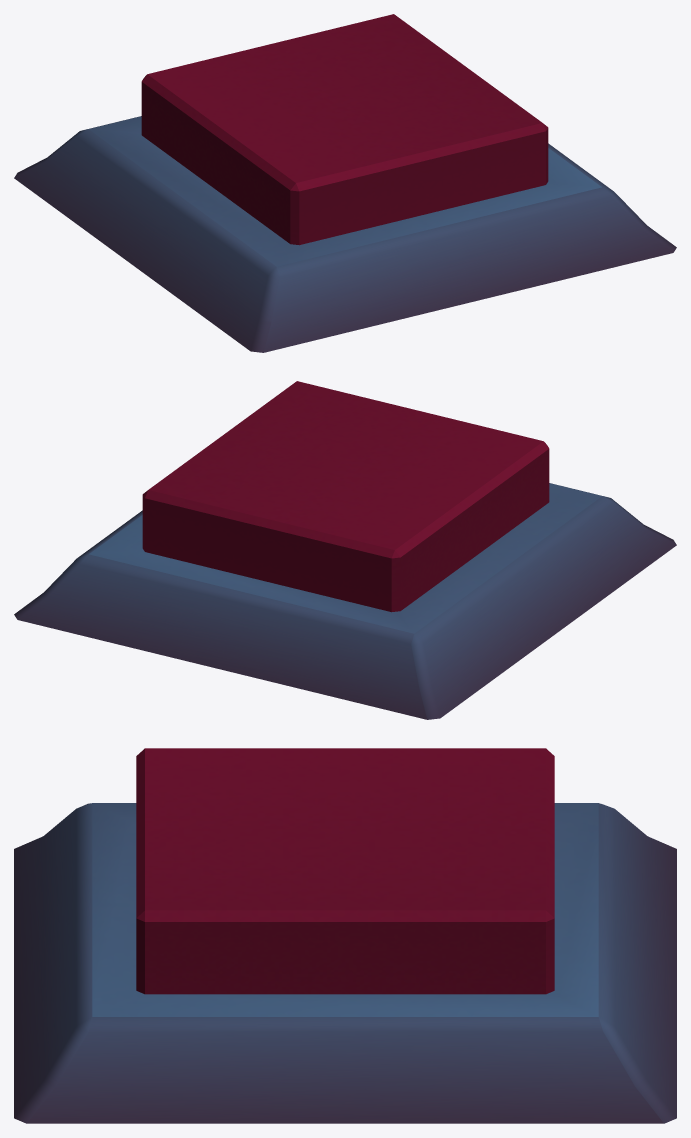
File: PressurePad.fbx
3 renders of one model, top to bottom at view 1: azimuth 30°, elevation 25°; view 2: azimuth 150°, elevation 25°; view 3: azimuth 270°, elevation 25°, orthographic. The views are drawn at different scales.
Parts seen in each view (by area): view 1: BoxButtonStatic; view 2: BoxButtonStatic; view 3: BoxButtonStatic.
Boxes of the visible parts, <box> form: BoxButtonStatic: <box>14,14,676,352</box>; BoxButtonStatic: <box>14,381,676,719</box>; BoxButtonStatic: <box>14,748,676,1123</box>.
Bounding box in the file's own units: 2.25 × 0.577 × 2.25.
